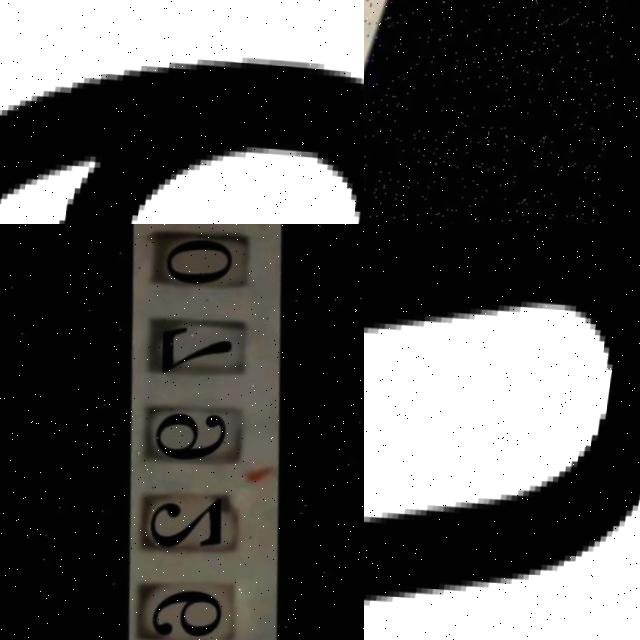0: (150, 224, 249, 289)
2: (139, 480, 245, 554)
6: (0, 22, 364, 224), (140, 570, 244, 640)
7: (145, 304, 254, 381)
9: (144, 393, 246, 468)
U: (364, 224, 640, 640)
